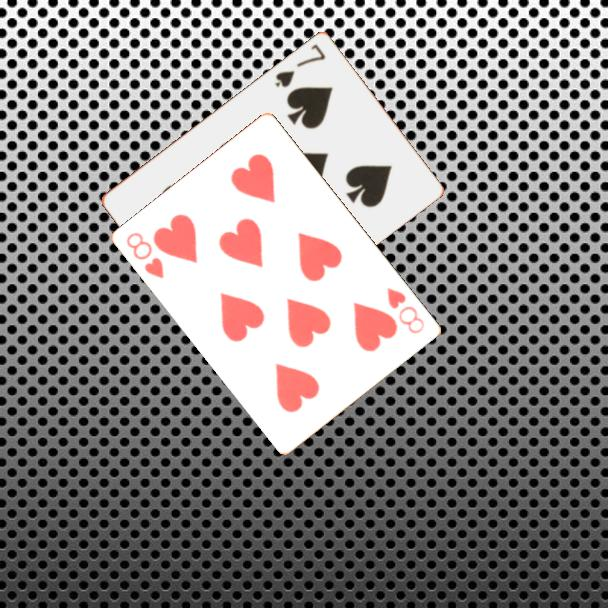h08: (384, 284, 428, 337), (123, 229, 167, 282)
s07: (271, 40, 328, 90)
